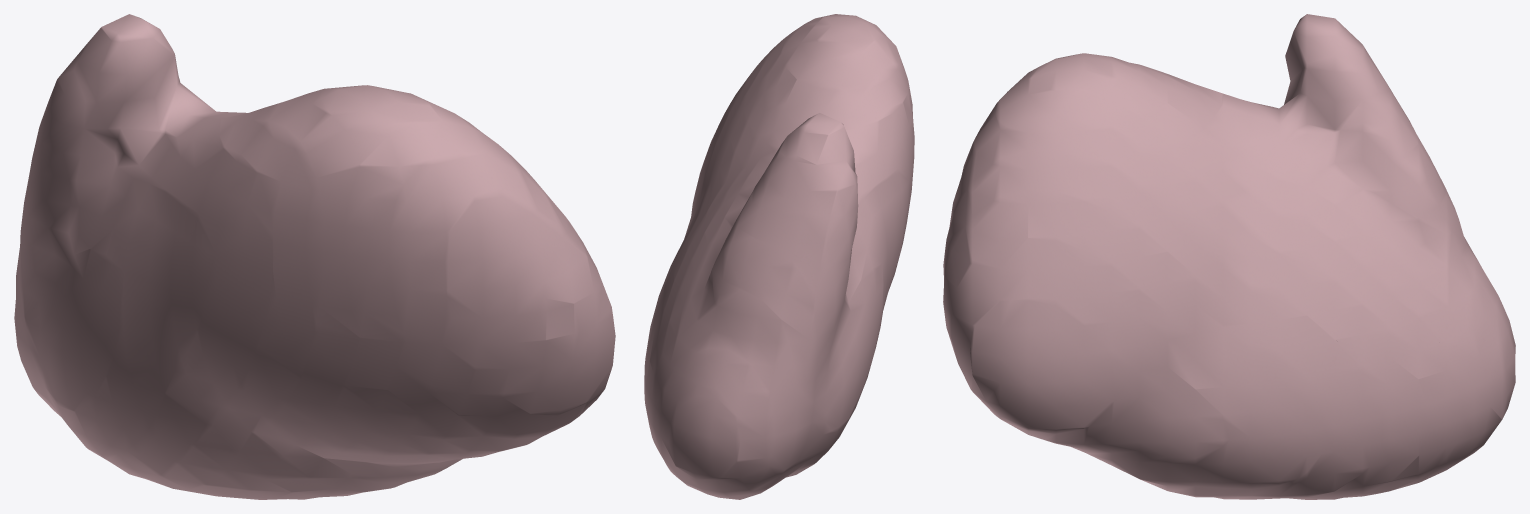
The model's file is brigitte-right.gltf.
3 views of the same model, side by side, from view 1: azimuth 30°, elevation 25°; view 2: azimuth 150°, elevation 25°; view 3: azimuth 270°, elevation 25° (orthographic). The views are drawn at different scales.
Parts seen in each view (by area): view 1: Layer_1; view 2: Layer_1; view 3: Layer_1.
Boxes of the visible parts, x1,y1,x2,y2 form: Layer_1: (14,14,615,499); Layer_1: (644,14,914,499); Layer_1: (943,14,1515,499).
Bounding box in the file's own units: 10 × 12.6 × 15.41.
1 material, 1 textured.
